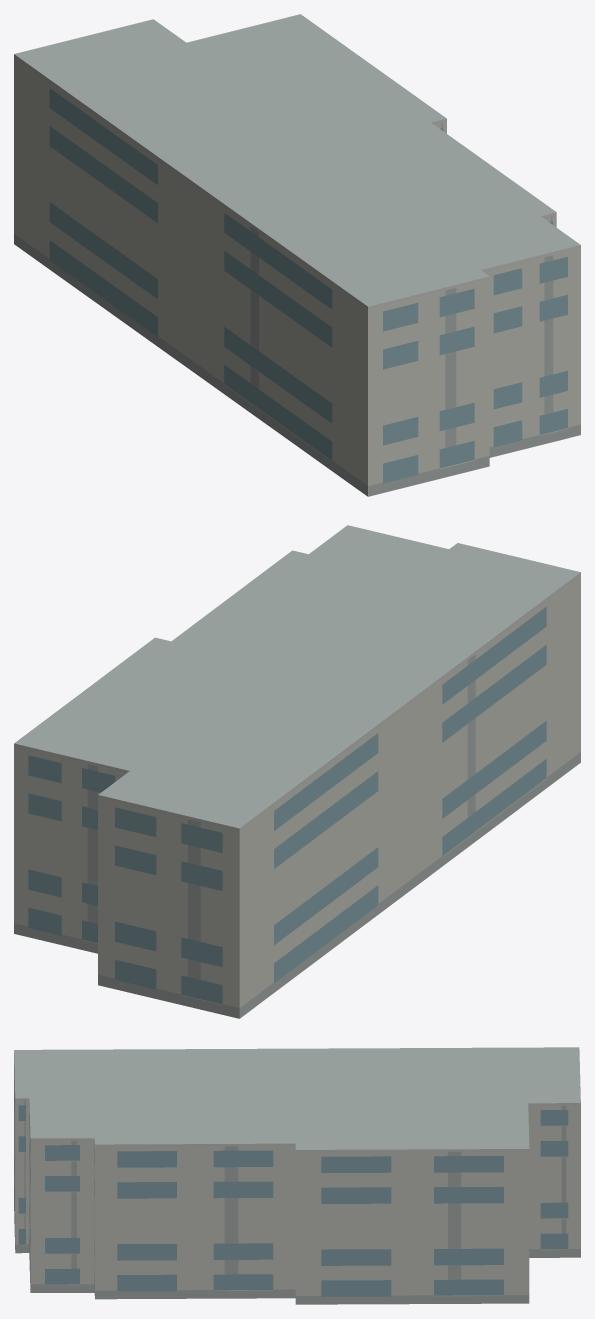
Rendered from residential-ad676dbb-014d-4d17-b6a9-2d51329a0839.glb.
3 views of the same model, one above another, from view 1: azimuth 30°, elevation 25°; view 2: azimuth 150°, elevation 25°; view 3: azimuth 270°, elevation 25° (orthographic). The views are drawn at different scales.
Visible parts, largest first — view 1: residential-ad676dbb-014d-4d17-b6a9-2d51329a0839.tmp; view 2: residential-ad676dbb-014d-4d17-b6a9-2d51329a0839.tmp; view 3: residential-ad676dbb-014d-4d17-b6a9-2d51329a0839.tmp.
Boxes of the visible parts, bbox=[...] form: residential-ad676dbb-014d-4d17-b6a9-2d51329a0839.tmp: bbox=[14, 14, 580, 496]; residential-ad676dbb-014d-4d17-b6a9-2d51329a0839.tmp: bbox=[14, 525, 580, 1018]; residential-ad676dbb-014d-4d17-b6a9-2d51329a0839.tmp: bbox=[14, 1047, 580, 1304].
Bounding box in the file's own units: 21.73 × 15.25 × 50.67.
